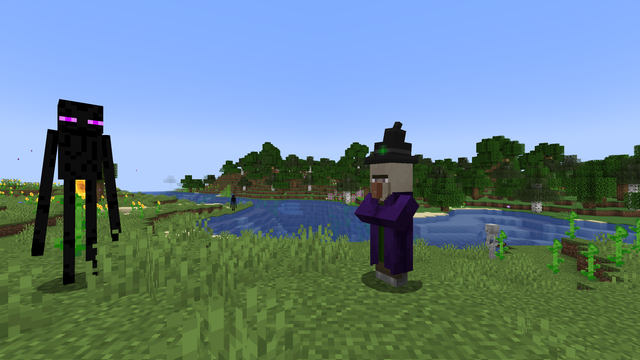endermens: (41, 94, 113, 288), (231, 194, 235, 210)
sorcieres: (368, 157, 415, 287)
squelettes: (483, 223, 500, 259)
